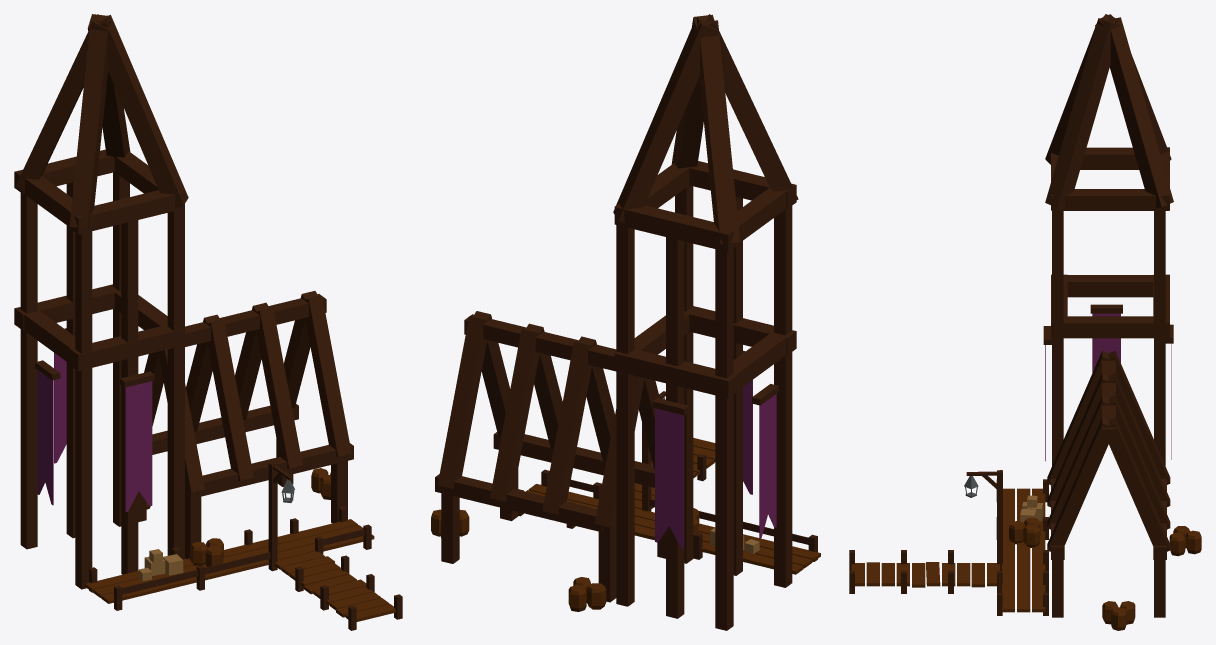
Rendered from PortBuildPhase2v1.fbx.
3 renders of one model, left to right at view 1: azimuth 30°, elevation 25°; view 2: azimuth 150°, elevation 25°; view 3: azimuth 270°, elevation 25°, orthographic. The views are drawn at different scales.
Parts seen in each view (by area): view 1: Cube.3844; view 2: Cube.3844; view 3: Cube.3844.
Part boxes in pixels (<box>): Cube.3844: <box>14,14,402,630</box>; Cube.3844: <box>431,14,820,630</box>; Cube.3844: <box>849,14,1201,630</box>.
Size of the model in its own units: 193 by 320 by 204.
